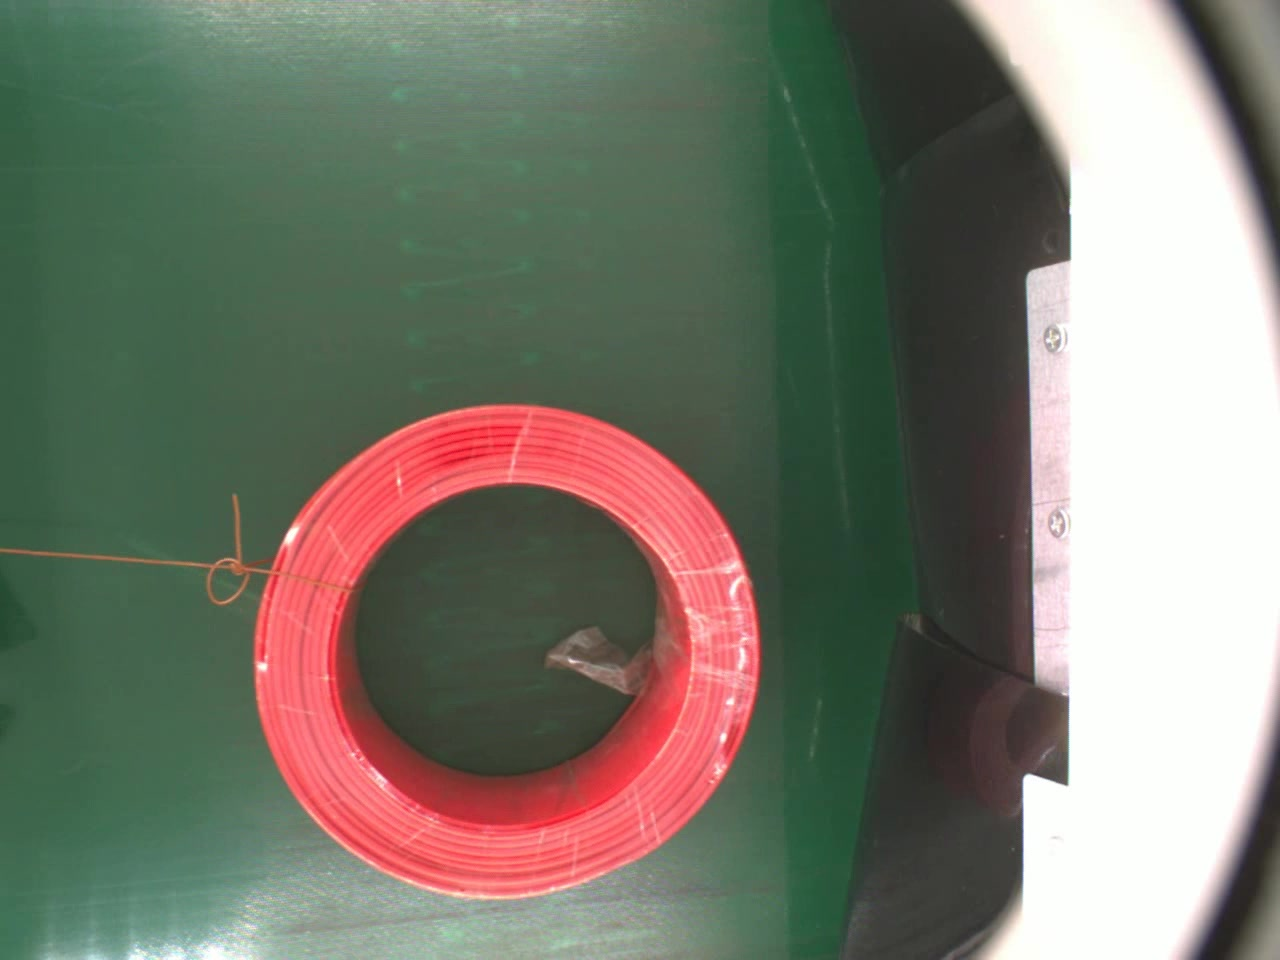red: (246, 392, 793, 901)
